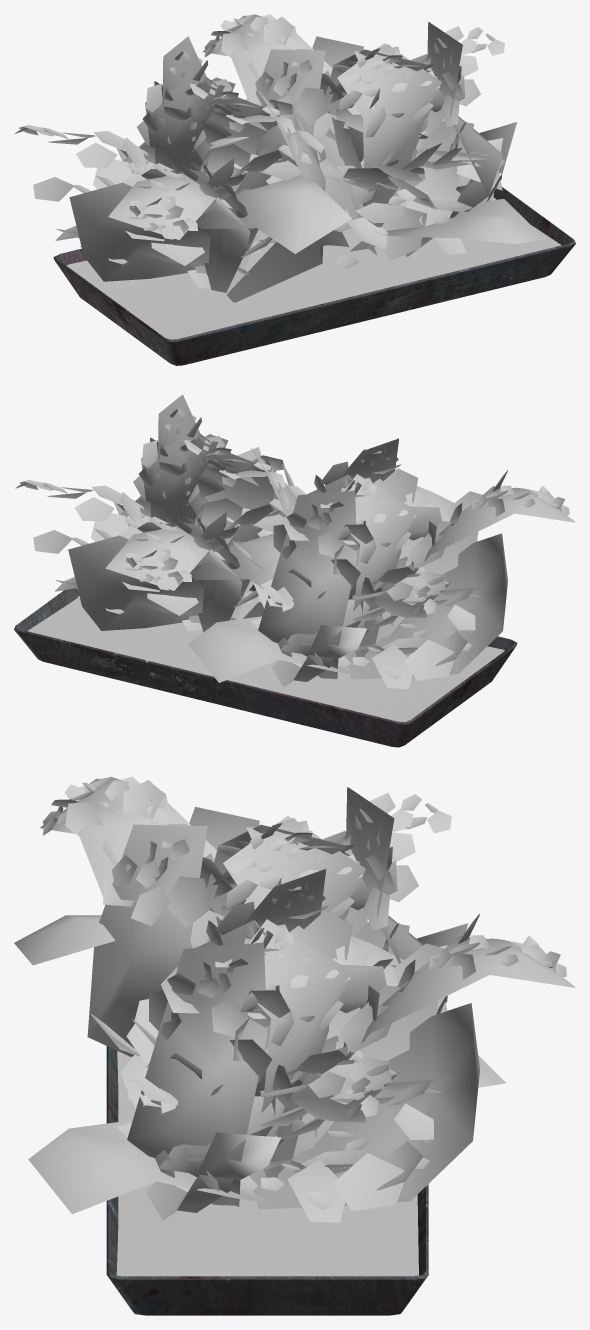
File: SM_PlantH.FBX
3 renders of one model, top to bottom at view 1: azimuth 30°, elevation 25°; view 2: azimuth 150°, elevation 25°; view 3: azimuth 270°, elevation 25°, orthographic. The views are drawn at different scales.
Visible parts, largest first — view 1: SM_PlantH_LOD0; view 2: SM_PlantH_LOD0; view 3: SM_PlantH_LOD0.
Boxes of the visible parts, bbox=[...] form: SM_PlantH_LOD0: bbox=[15, 14, 575, 365]; SM_PlantH_LOD0: bbox=[14, 394, 575, 747]; SM_PlantH_LOD0: bbox=[14, 776, 575, 1315].
Size of what is drawn, in the model's own units: 71.1 by 33.03 by 52.19.
